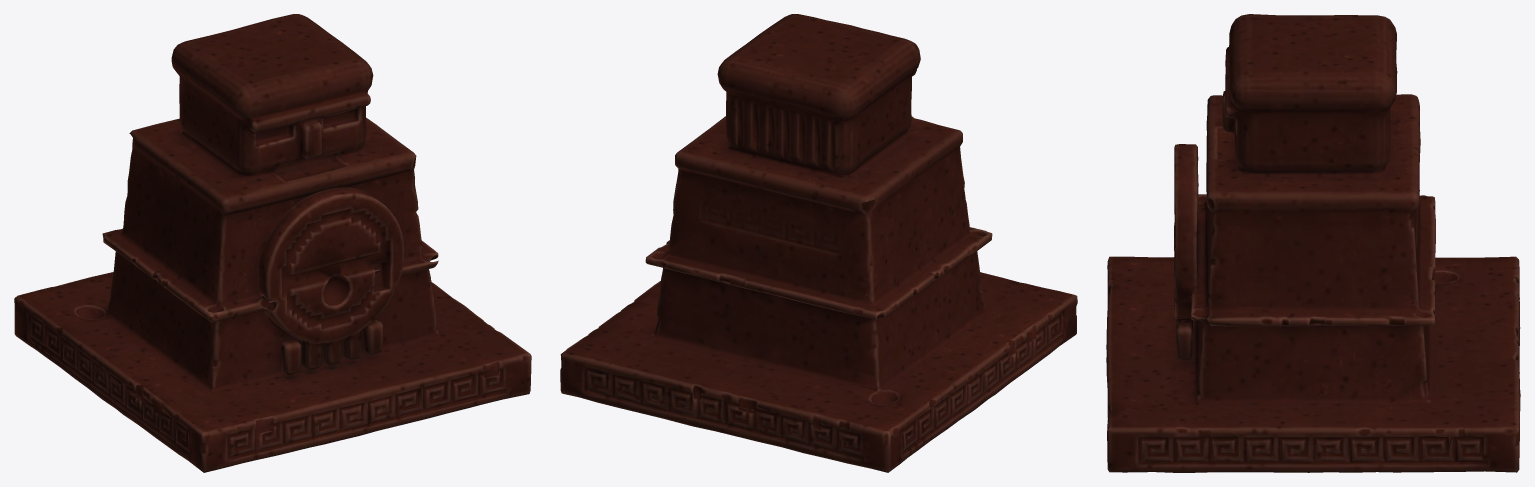
File: pawn-tezontle.glb
The picture shows the model from 3 angles, left to right: view 1: azimuth 30°, elevation 25°; view 2: azimuth 150°, elevation 25°; view 3: azimuth 270°, elevation 25°; orthographic projection. The views are drawn at different scales.
Parts seen in each view (by area): view 1: pawn; view 2: pawn; view 3: pawn.
Part boxes in pixels (bbox=[...]): pawn: bbox=[14, 14, 531, 472]; pawn: bbox=[560, 14, 1077, 472]; pawn: bbox=[1106, 14, 1520, 472].
Bounding box in the file's own units: 0.6421 × 0.5878 × 0.6435.
Materials: 1 (1 with a texture image).
